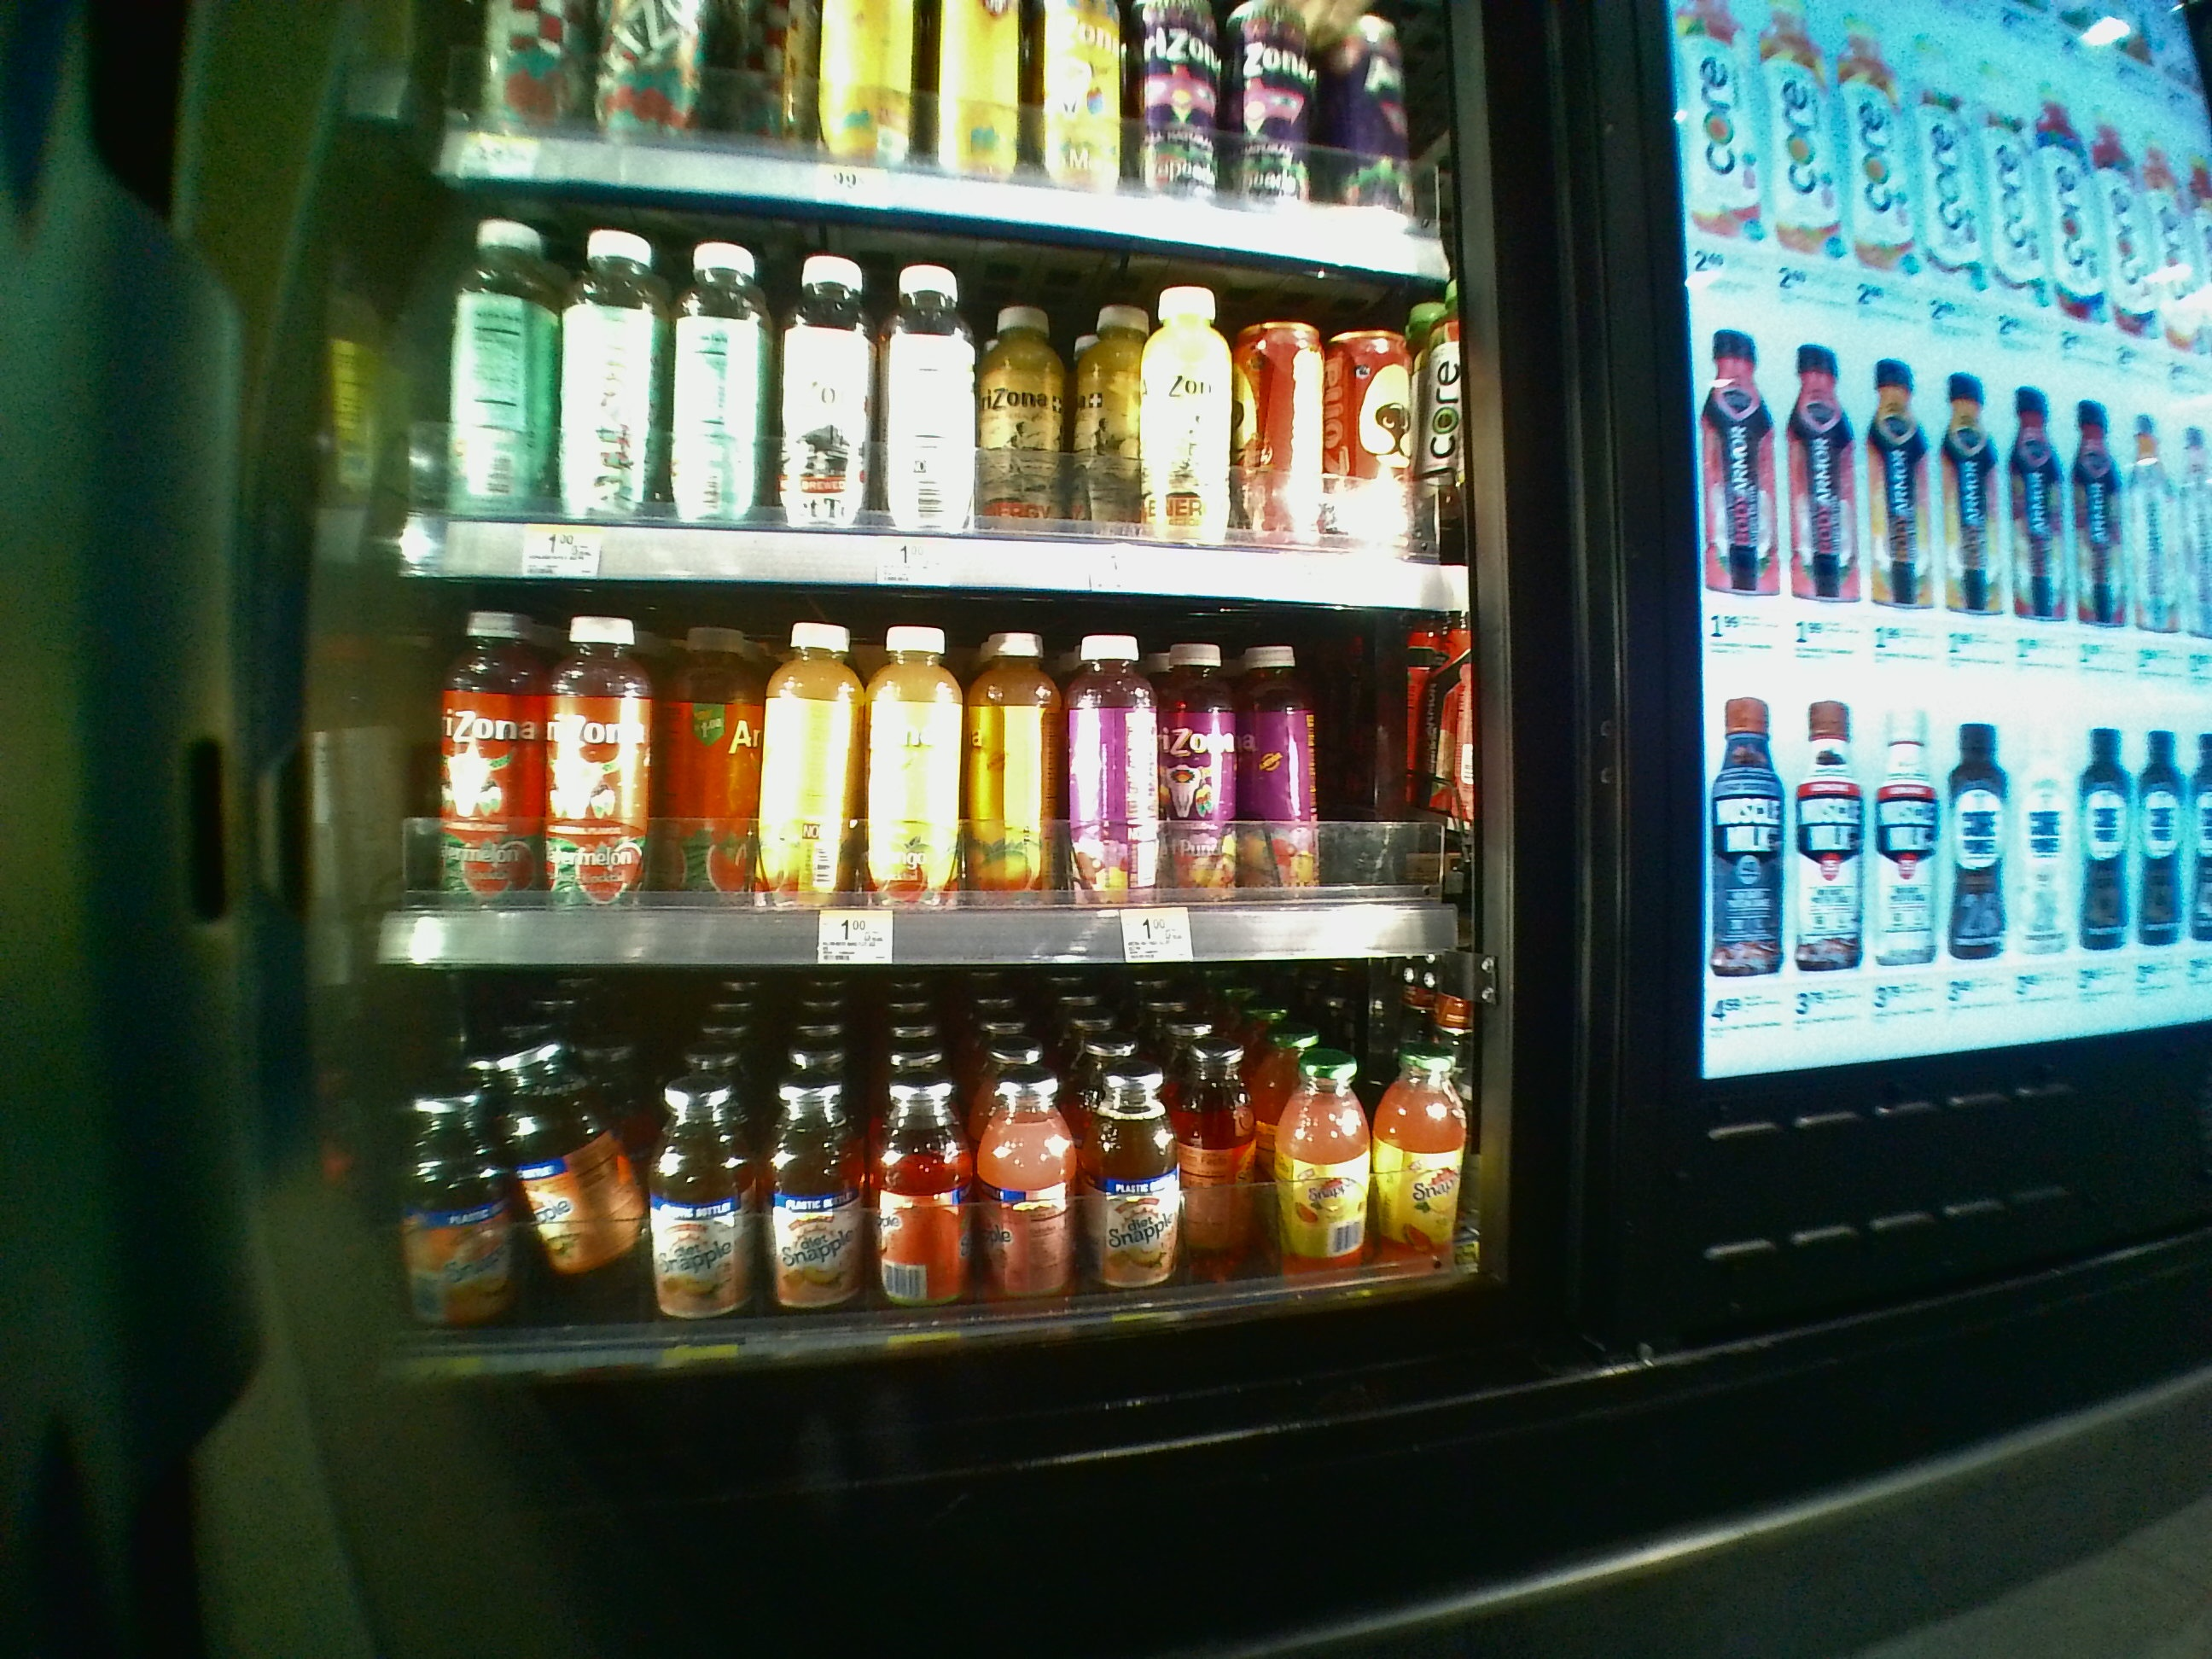shelf: (364, 974, 1484, 1412), (369, 586, 1468, 962)
